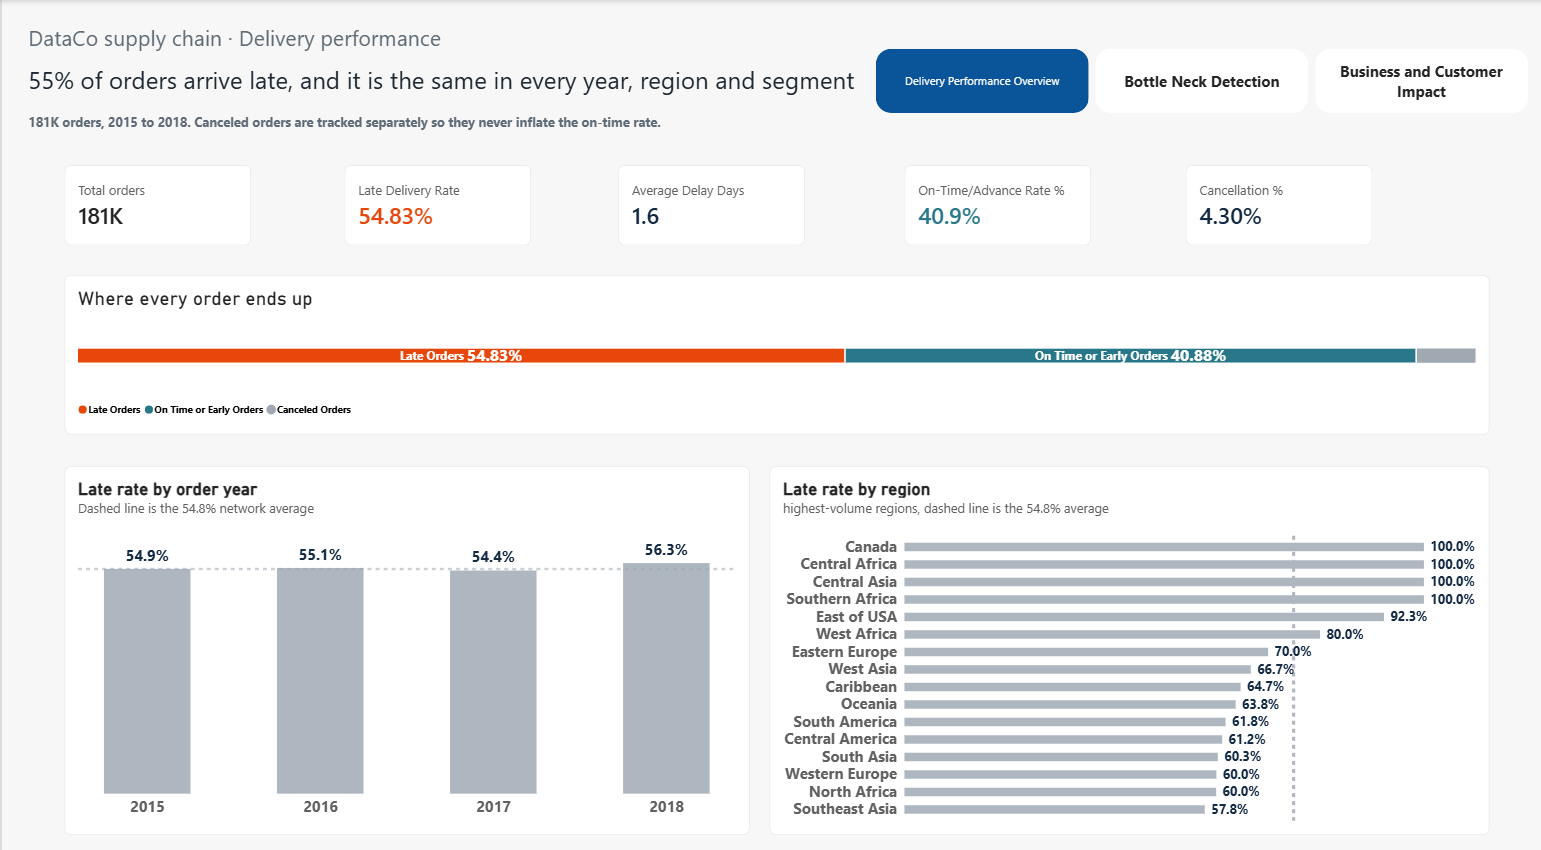

What the dashboard file says about the page in this screenshot:
{"tool":"powerbi","page":{"name":"Delivery Performance Overview","canvas":[1920,1080],"ordinal":0},"visuals":[{"type":"columnChart","title":"Late rate by order year","fields":{"Category":["df.order_year","df.order_ym.Variation.Date Hierarchy.Month"],"Y":["df.Late Delivery Rate"]},"box":[78.3,580,851.7,458.3],"z":0},{"type":"clusteredBarChart","title":"Late rate by region","fields":{"Category":["df.order_region"],"Y":["df.Late Delivery Rate"]},"box":[955,580,895,458.3],"z":1000},{"type":"hundredPercentStackedBarChart","title":"Where every order ends up","fields":{"Y":["df.Late Orders","df.On Time or Early Orders","df.Canceled Orders"]},"box":[78.3,341.7,1771.7,198.3],"z":2000},{"type":"cardVisual","fields":{"Data":["df.Total orders"]},"box":[78.3,205,232,100],"z":3000},{"type":"cardVisual","fields":{"Data":["df.Late Delivery Rate"]},"box":[426.7,205,232,100],"z":4000},{"type":"cardVisual","fields":{"Data":["df.Average Delay Days"]},"box":[766.7,205,232,100],"z":5000},{"type":"cardVisual","fields":{"Data":["df.On-Time/Advance Rate %"]},"box":[1121.7,205,232,100],"z":6000},{"type":"cardVisual","fields":{"Data":["df.Cancellation %"]},"box":[1471.7,205,232,100],"z":7000},{"type":"textbox","box":[33.3,28.3,566.7,51.7],"z":8000},{"type":"textbox","box":[33.3,80,1054,60],"z":9000},{"type":"textbox","box":[33.3,140,805,53.3],"z":10000},{"type":"pageNavigator","box":[1086.9,60.2,813.4,80.2],"z":10001}]}

Visuals, with their boxes in screenshot pixels (x1, y1, x2, y2), scaled from the page's 1920x1080 canvas onto the 1541x850 screenshot:
"Late rate by order year" columnChart: [x1=63, y1=456, x2=746, y2=817]
"Late rate by region" clusteredBarChart: [x1=766, y1=456, x2=1485, y2=817]
"Where every order ends up" hundredPercentStackedBarChart: [x1=63, y1=269, x2=1485, y2=425]
cardVisual - df.Total orders: [x1=63, y1=161, x2=249, y2=240]
cardVisual - df.Late Delivery Rate: [x1=342, y1=161, x2=529, y2=240]
cardVisual - df.Average Delay Days: [x1=615, y1=161, x2=802, y2=240]
cardVisual - df.On-Time/Advance Rate %: [x1=900, y1=161, x2=1086, y2=240]
cardVisual - df.Cancellation %: [x1=1181, y1=161, x2=1367, y2=240]
textbox: [x1=27, y1=22, x2=482, y2=63]
textbox: [x1=27, y1=63, x2=873, y2=110]
textbox: [x1=27, y1=110, x2=673, y2=152]
pageNavigator: [x1=872, y1=47, x2=1525, y2=111]
